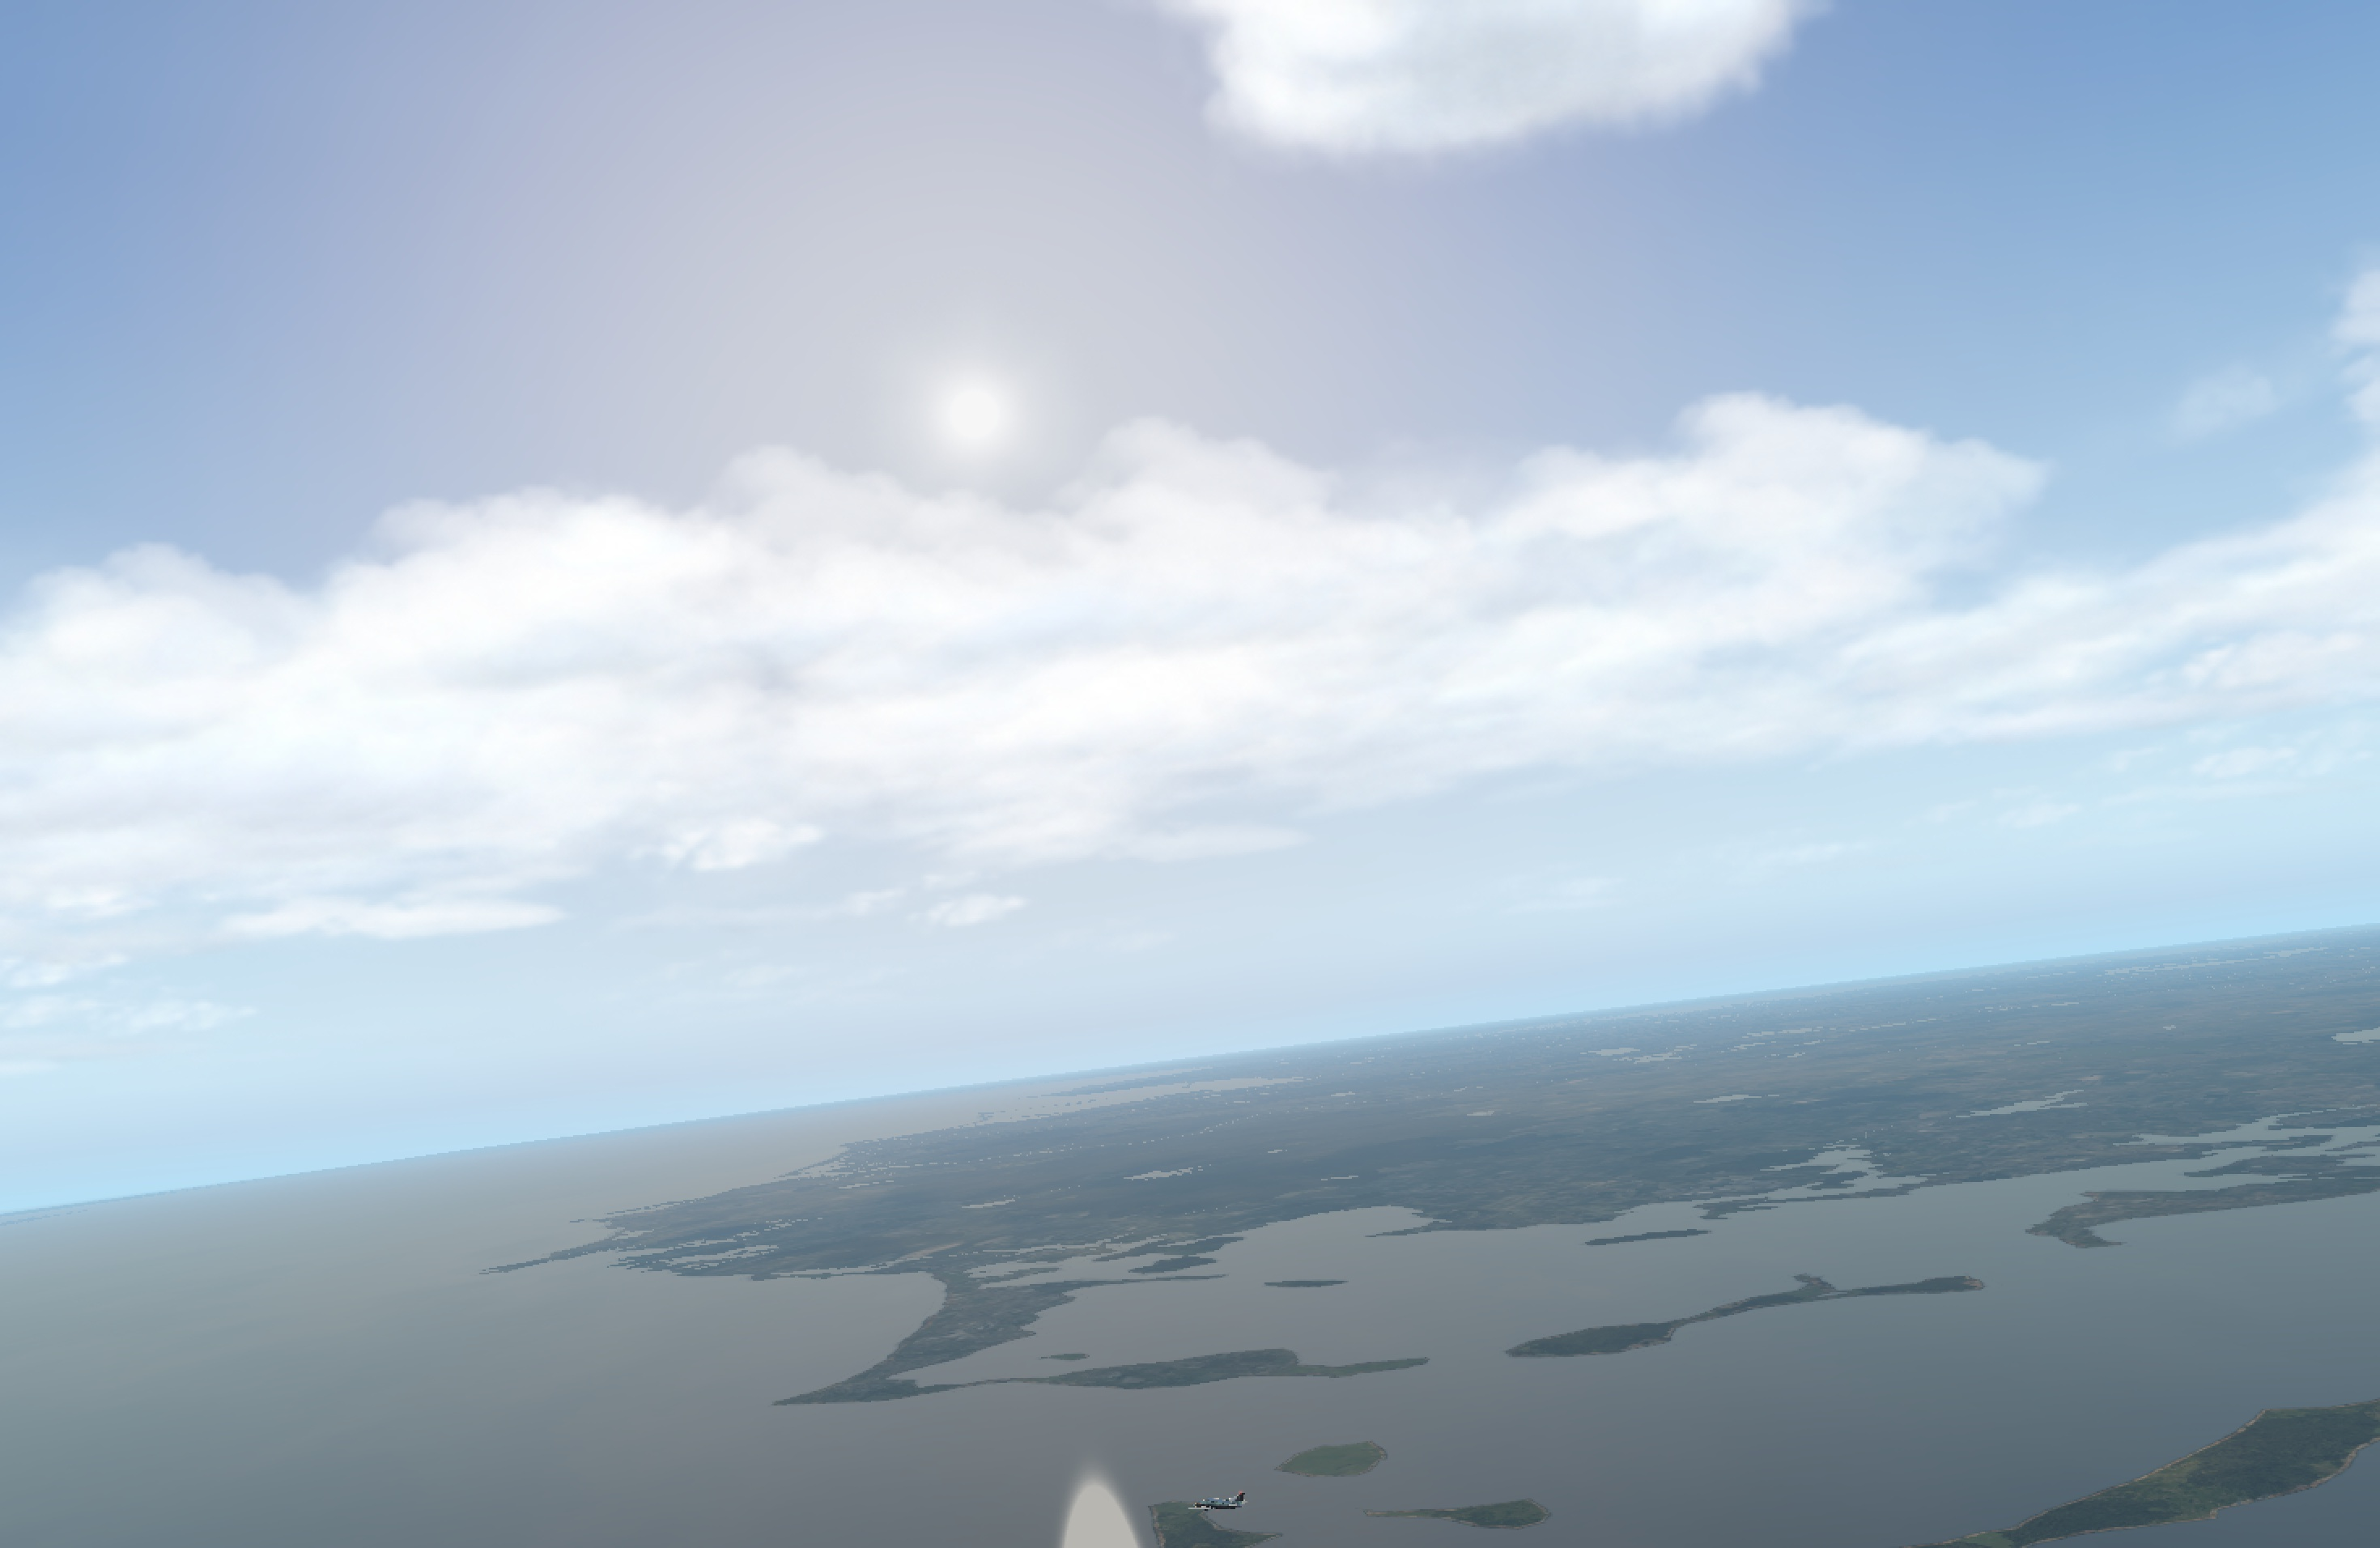aircraft: (1173, 1492, 1254, 1522)
